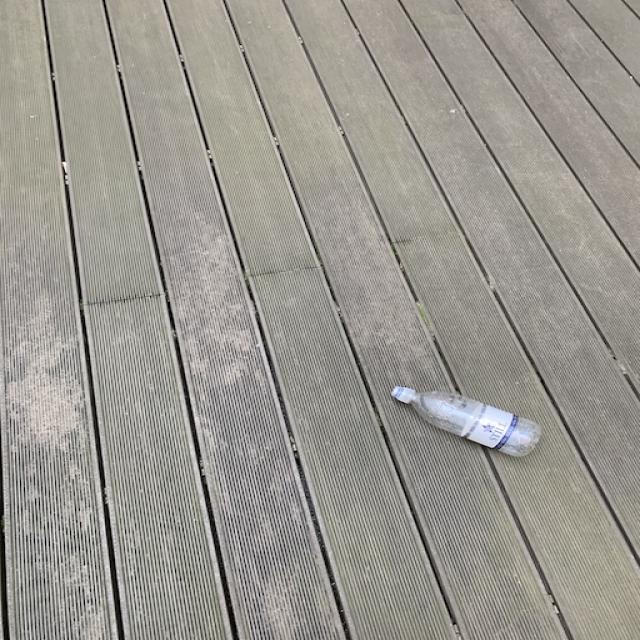litter: (390, 387, 544, 461)
